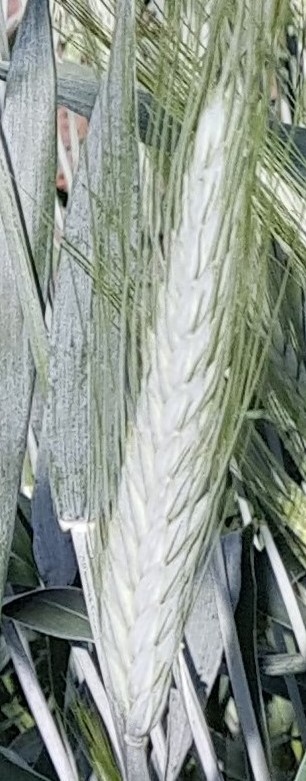Healthy Wheat: (96, 92, 285, 727)
